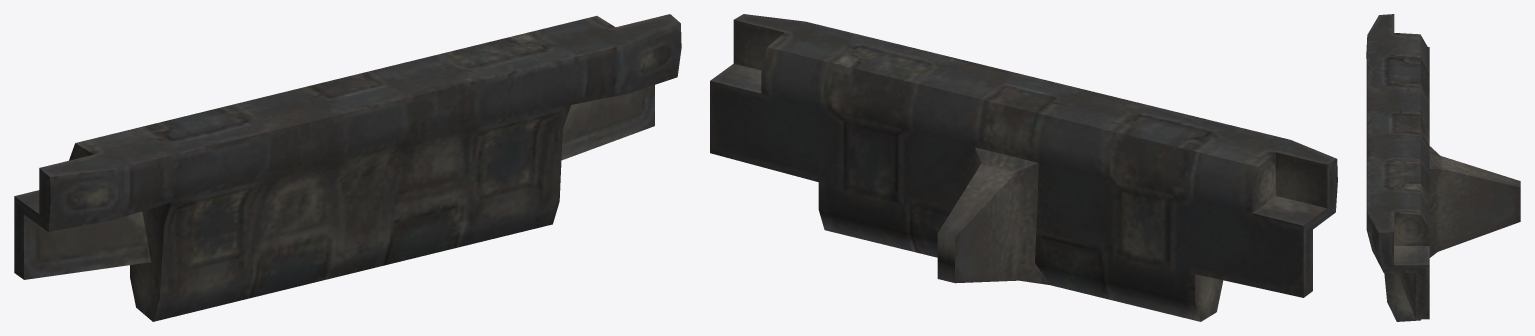
3 renders of one model, left to right at view 1: azimuth 30°, elevation 25°; view 2: azimuth 150°, elevation 25°; view 3: azimuth 270°, elevation 25°, orthographic. The views are drawn at different scales.
Visible parts, largest first — view 1: set_0_group_0; view 2: set_0_group_0; view 3: set_0_group_0.
Boxes of the visible parts, x1,y1,x2,y2 form: set_0_group_0: [14, 14, 681, 321]; set_0_group_0: [710, 14, 1337, 321]; set_0_group_0: [1366, 14, 1520, 321].
Size of the model in its own units: 0.6361 by 0.1769 by 0.19.
1 material, 1 textured.
